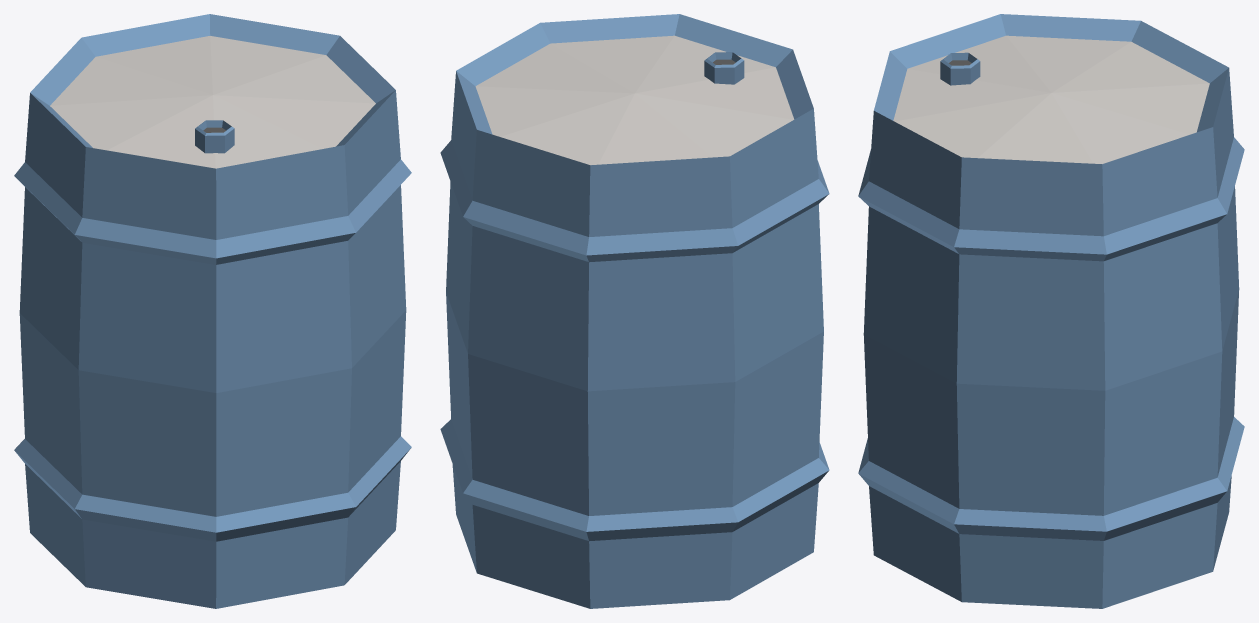
Rendered from waterBarrel.fbx.
The picture shows the model from 3 angles, left to right: view 1: azimuth 30°, elevation 25°; view 2: azimuth 150°, elevation 25°; view 3: azimuth 270°, elevation 25°; orthographic projection.
Visible parts, largest first — view 1: pCylinder46, pCylinder47; view 2: pCylinder46, pCylinder47; view 3: pCylinder46, pCylinder47.
Boxes of the visible parts, x1=… form: pCylinder46: x1=14, y1=14, x2=411, y2=608; pCylinder47: x1=195, y1=120, x2=234, y2=153; pCylinder46: x1=440, y1=14, x2=829, y2=608; pCylinder47: x1=704, y1=52, x2=744, y2=84; pCylinder46: x1=858, y1=14, x2=1244, y2=608; pCylinder47: x1=940, y1=52, x2=980, y2=85.
Size of the model in its own units: 0.7725 by 0.9997 by 0.7725.
